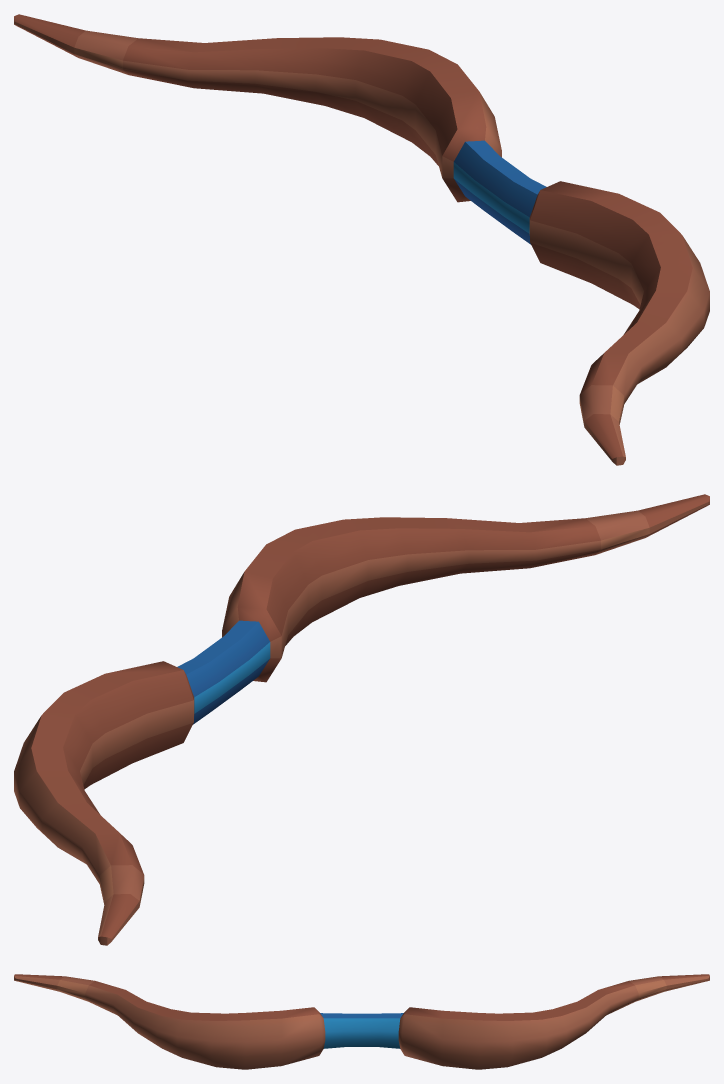
Rendered from kaykit-bow.glb.
3 renders of one model, top to bottom at view 1: azimuth 30°, elevation 25°; view 2: azimuth 150°, elevation 25°; view 3: azimuth 270°, elevation 25°, orthographic. The views are drawn at different scales.
Parts seen in each view (by area): view 1: bow; view 2: bow; view 3: bow.
Part boxes in pixels (x1,y1,x2,y2): bow: (14, 14, 709, 465); bow: (14, 494, 709, 945); bow: (14, 974, 709, 1069).
Size of the model in its own units: 0.4942 by 0.1555 by 1.98.
1 material, 1 textured.
